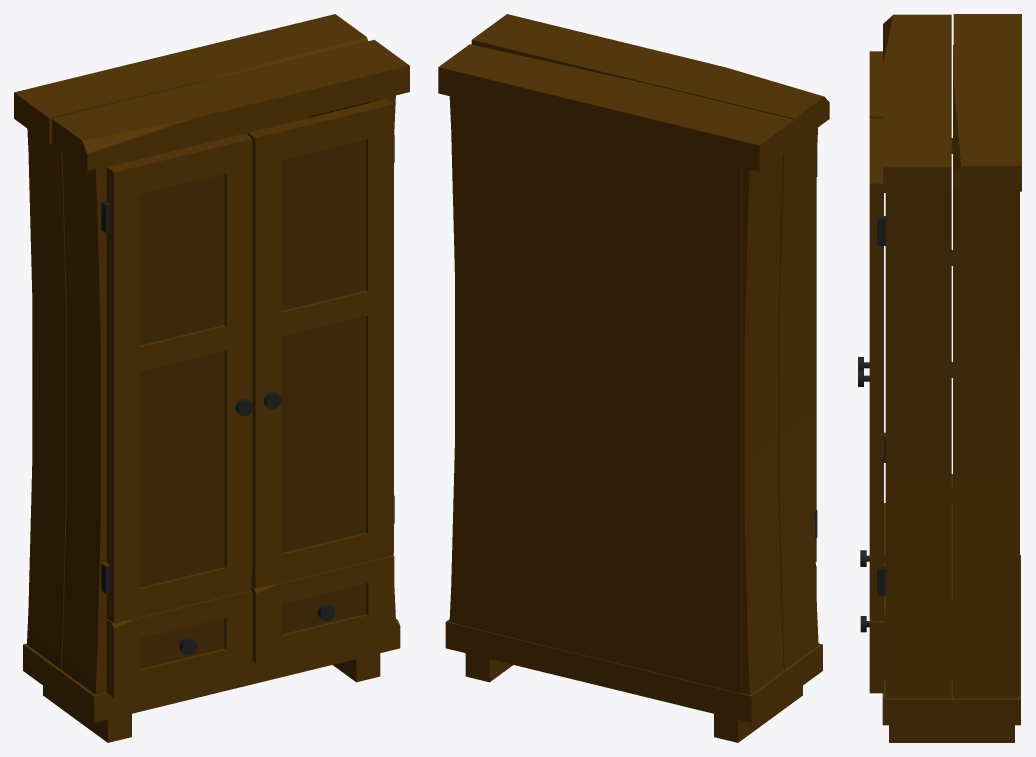
File: LargeCabinetFixed.fbx
3 views of the same model, side by side, from view 1: azimuth 30°, elevation 25°; view 2: azimuth 150°, elevation 25°; view 3: azimuth 270°, elevation 25° (orthographic). The views are drawn at different scales.
Visible parts, largest first — view 1: Furniture_Cabinet, Furniture_Door2, Furniture_Door1, Furniture_03_DoorSmall1, Furniture_03_DoorSmall2; view 2: Furniture_Cabinet, Furniture_Door2; view 3: Furniture_Cabinet, Furniture_Door1, Furniture_03_DoorSmall2, Furniture_Door2.
Boxes of the visible parts, x1,y1,x2,y2 form: Furniture_Cabinet: (14,14,409,742); Furniture_Door2: (106,133,253,623); Furniture_Door1: (248,99,393,588); Furniture_03_DoorSmall1: (106,589,252,697); Furniture_03_DoorSmall2: (251,554,394,662); Furniture_Cabinet: (438,14,829,742); Furniture_Door2: (813,177,816,561); Furniture_Cabinet: (877,14,1021,742); Furniture_Door1: (858,118,883,620); Furniture_03_DoorSmall2: (860,563,952,693); Furniture_Door2: (858,51,882,370).
Size of the model in its own units: 129 by 230 by 58.08.
